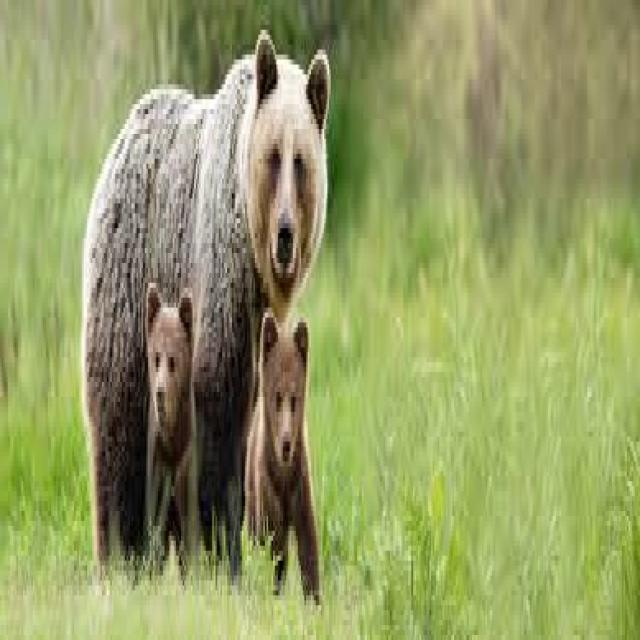bear: (84, 30, 331, 571), (248, 313, 319, 595), (146, 283, 199, 571)
